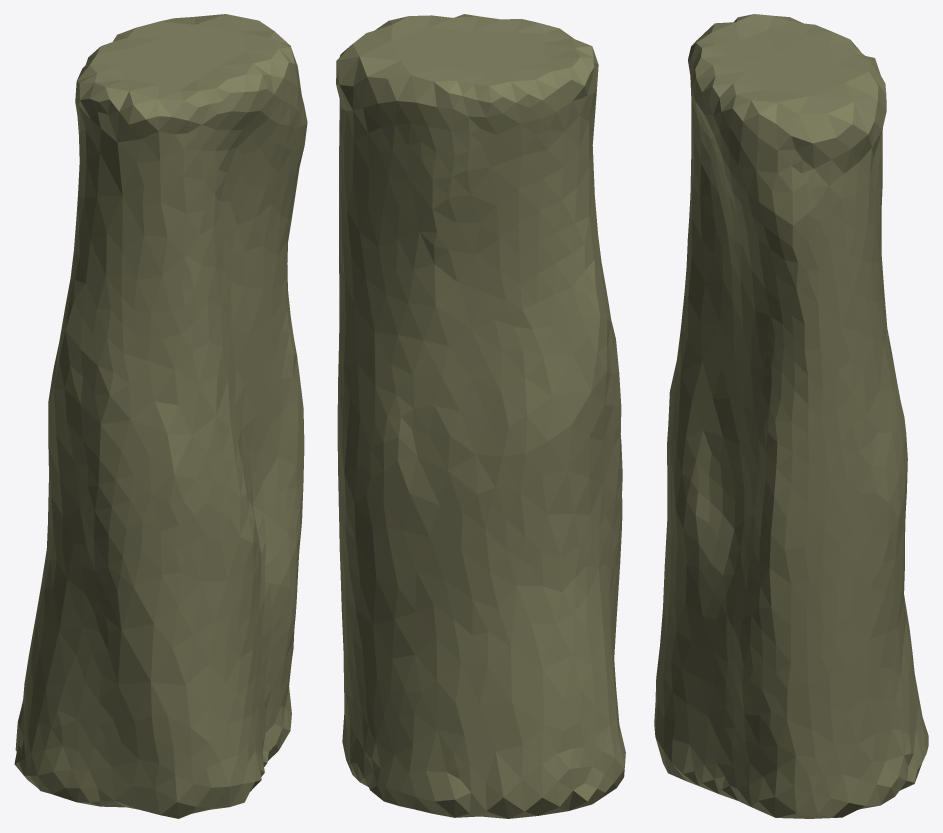
File: RockPillar01.fbx
3 views of the same model, side by side, from view 1: azimuth 30°, elevation 25°; view 2: azimuth 150°, elevation 25°; view 3: azimuth 270°, elevation 25° (orthographic).
Parts seen in each view (by area): view 1: RockPillar01; view 2: RockPillar01; view 3: RockPillar01.
Boxes of the visible parts, x1,y1,x2,y2 form: RockPillar01: (14,14,307,818); RockPillar01: (336,14,625,818); RockPillar01: (654,14,928,818).
Bounding box in the file's own units: 0.7956 × 2 × 0.6919.
